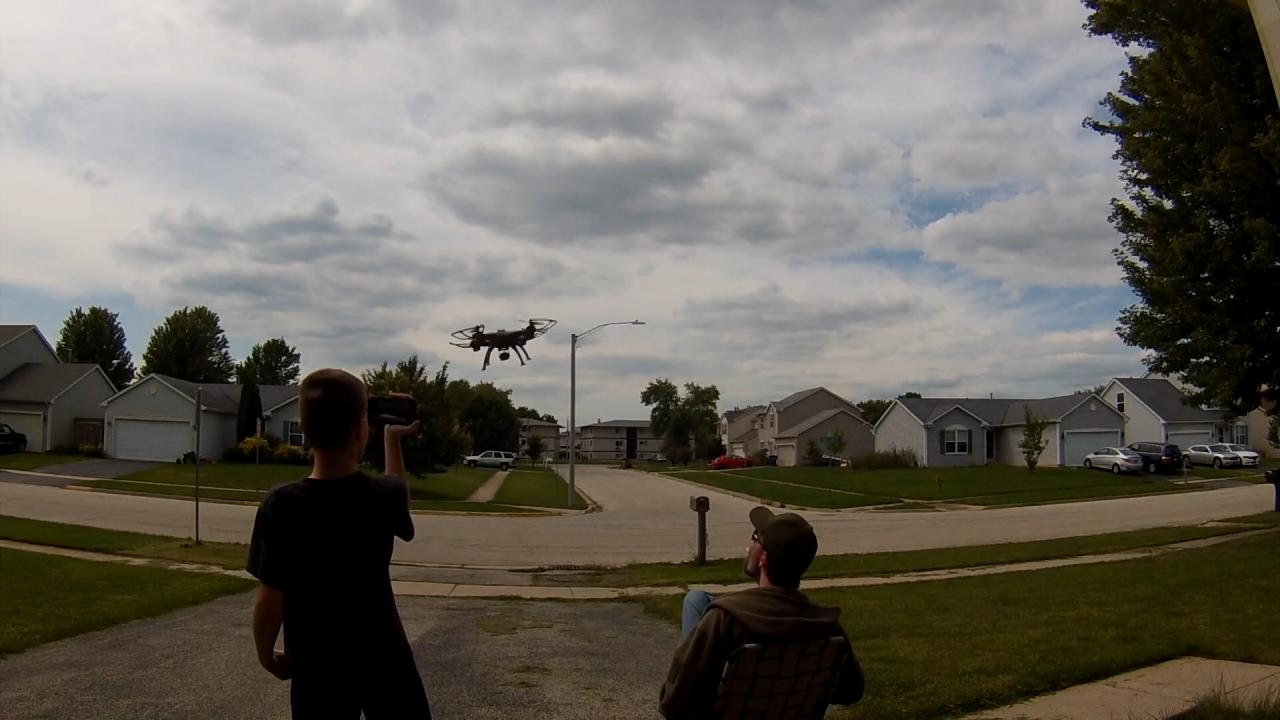Drone: (436, 303, 571, 377)
